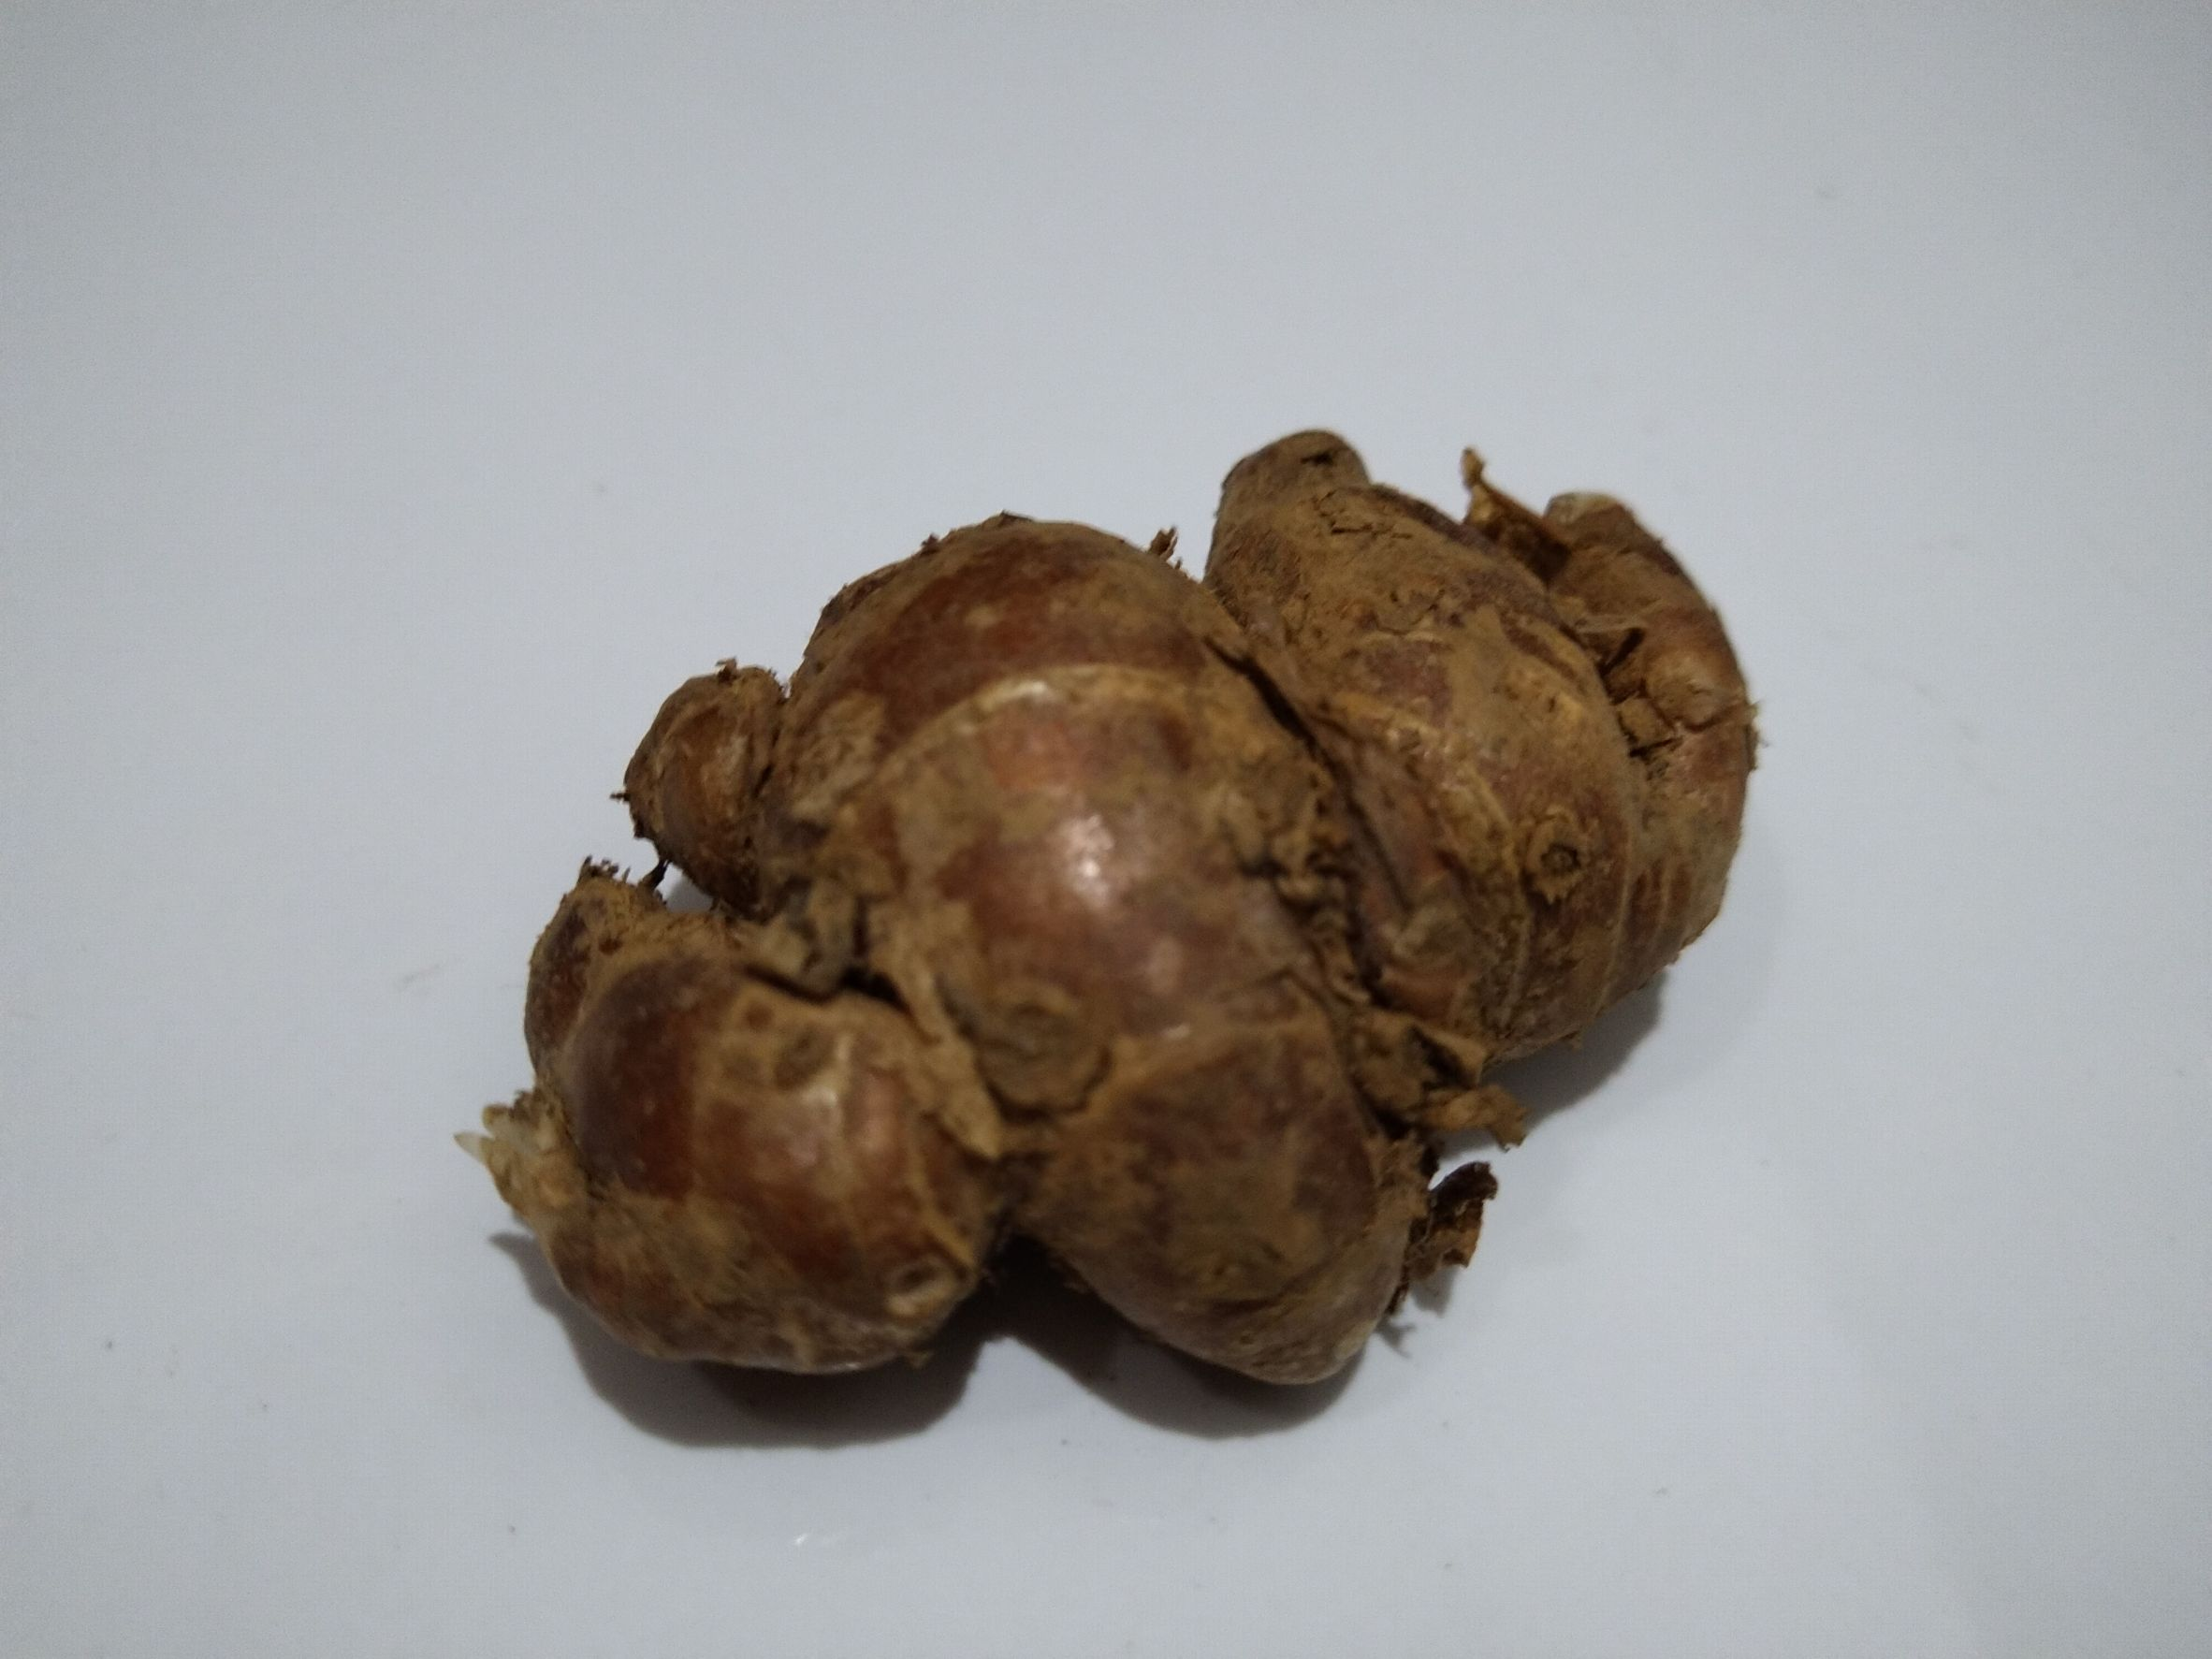Kencur: (493, 429, 1754, 1438)
